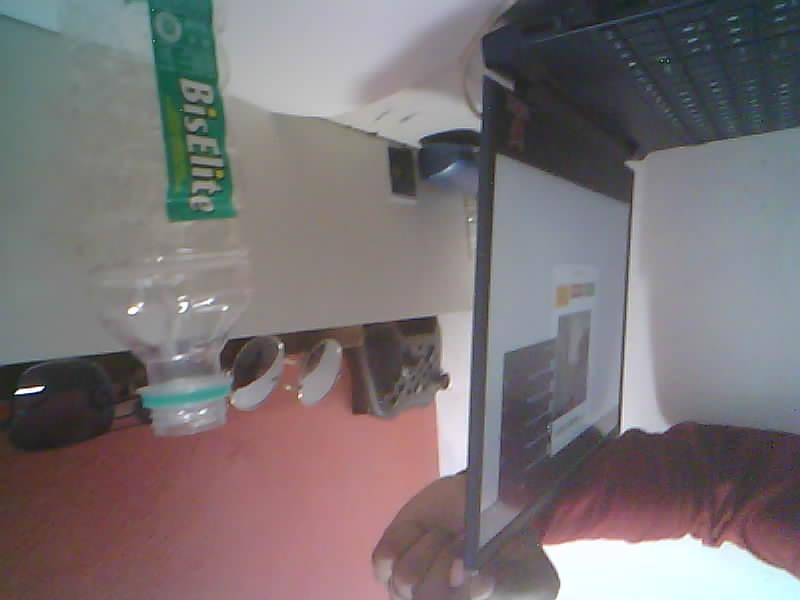non-biodegradable: (59, 0, 251, 435)
